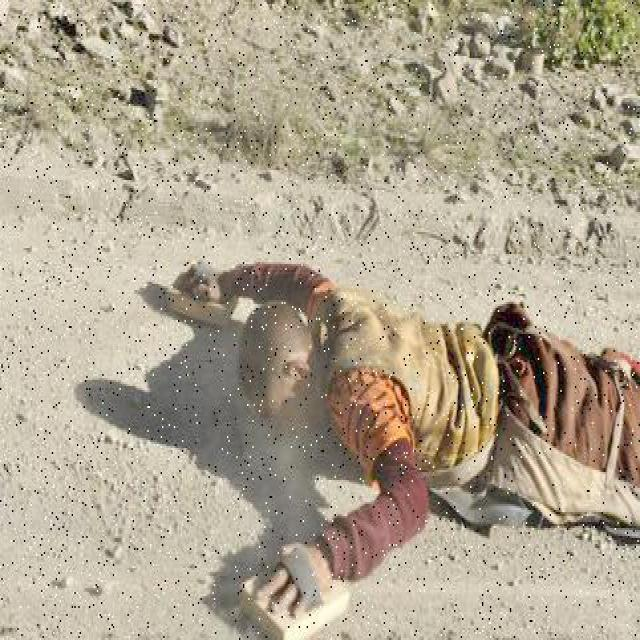fall: (156, 242, 638, 600)
